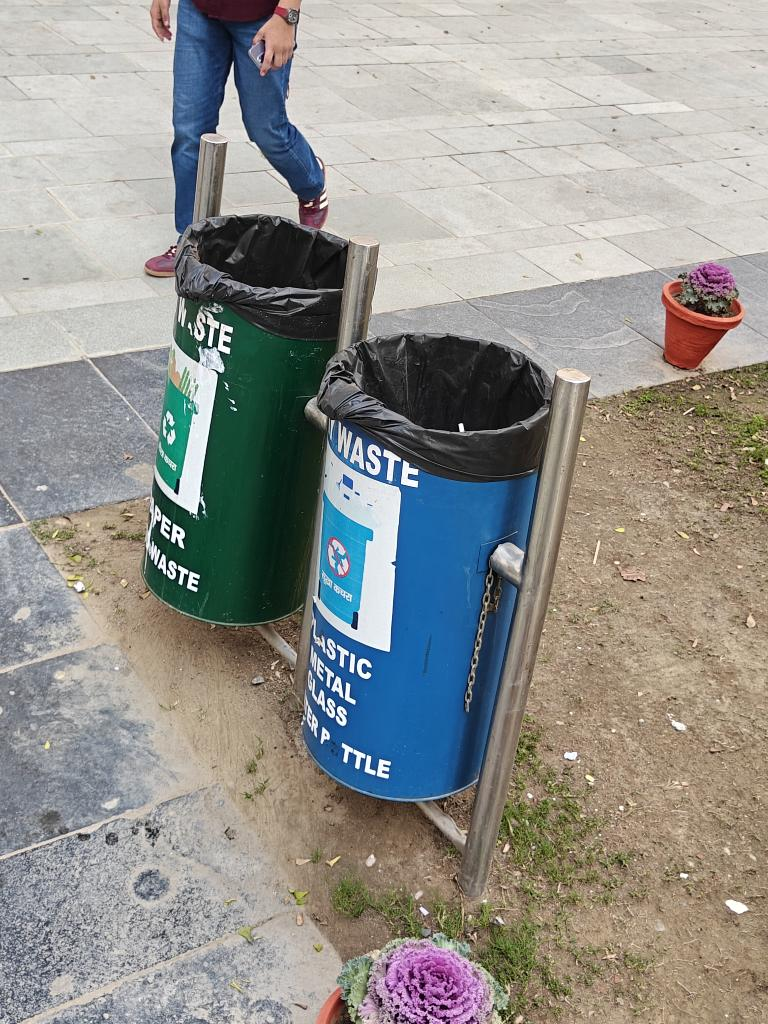dustbin: (131, 122, 592, 878), (303, 230, 589, 831), (144, 133, 369, 617)
